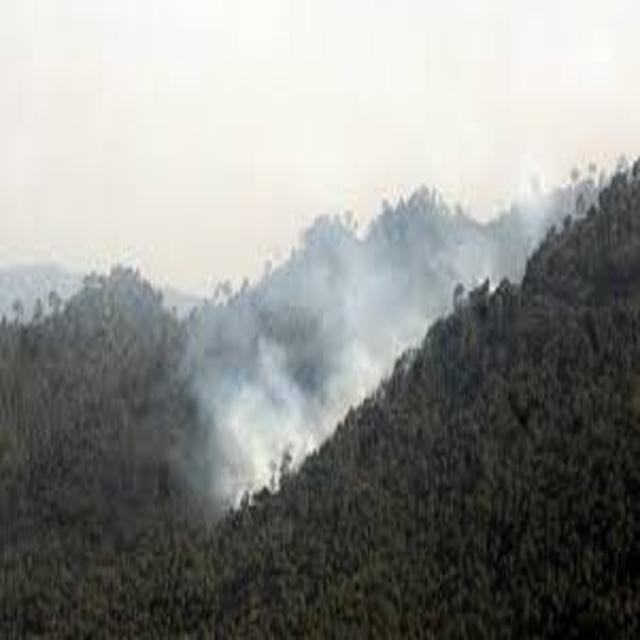Smoke: (178, 306, 448, 524), (256, 176, 584, 302)
